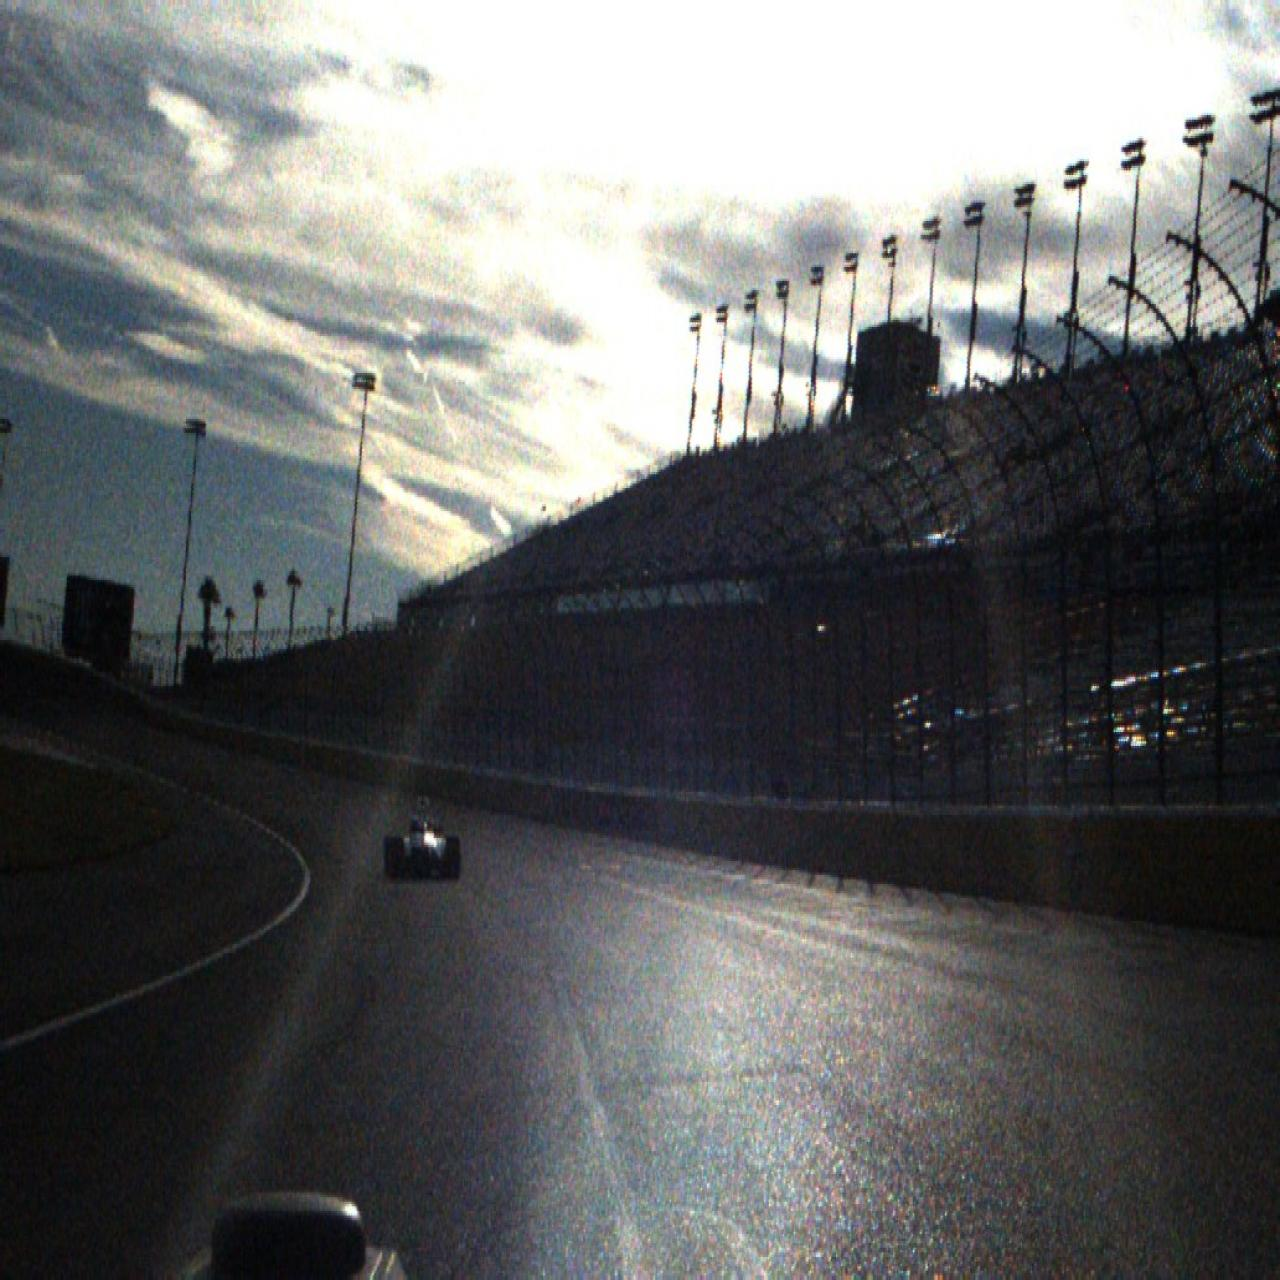AV: (383, 794, 461, 880)
Wheel: (445, 837, 461, 880), (389, 838, 404, 880)
